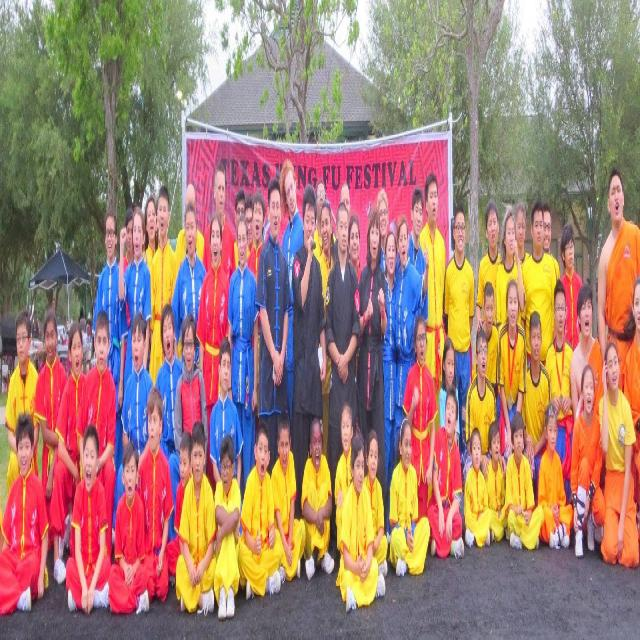body: (324, 199, 362, 566), (290, 182, 328, 522), (254, 176, 291, 481), (74, 307, 117, 567), (356, 206, 389, 540), (0, 408, 49, 620), (195, 212, 230, 505), (112, 312, 154, 550), (49, 317, 86, 586), (90, 208, 127, 477), (596, 168, 640, 394), (598, 339, 640, 571), (227, 213, 260, 505), (0, 294, 96, 393), (335, 426, 386, 612), (64, 422, 113, 612), (442, 199, 476, 464), (394, 213, 429, 469), (136, 384, 174, 608), (33, 308, 68, 542), (106, 440, 152, 618), (175, 419, 216, 618), (238, 418, 282, 602), (401, 315, 438, 523), (418, 168, 446, 441), (569, 362, 606, 560), (154, 300, 184, 544), (278, 157, 304, 433), (426, 384, 466, 563), (388, 414, 430, 581), (545, 278, 574, 507), (5, 310, 40, 498), (118, 204, 152, 396), (270, 409, 306, 582), (299, 412, 335, 584), (171, 203, 208, 370), (521, 198, 557, 369), (521, 310, 552, 508), (496, 276, 528, 466), (212, 431, 243, 624), (536, 398, 574, 552), (504, 410, 544, 553), (148, 184, 176, 388), (174, 314, 208, 476), (209, 334, 244, 488), (381, 230, 398, 546), (316, 198, 336, 459), (164, 428, 194, 601), (396, 185, 430, 332), (465, 326, 497, 481), (622, 274, 640, 548), (569, 280, 603, 423), (246, 188, 265, 440), (170, 182, 206, 300), (202, 161, 236, 284), (363, 426, 388, 580), (474, 198, 502, 333), (462, 423, 491, 550), (558, 221, 584, 352), (496, 206, 524, 325), (334, 400, 354, 558), (471, 279, 499, 387), (485, 419, 507, 546), (117, 205, 134, 368), (542, 198, 561, 339), (438, 336, 460, 448), (230, 188, 256, 267), (312, 178, 336, 262), (334, 181, 351, 261), (142, 192, 158, 271), (376, 186, 390, 276), (514, 199, 531, 270), (348, 212, 362, 287)
